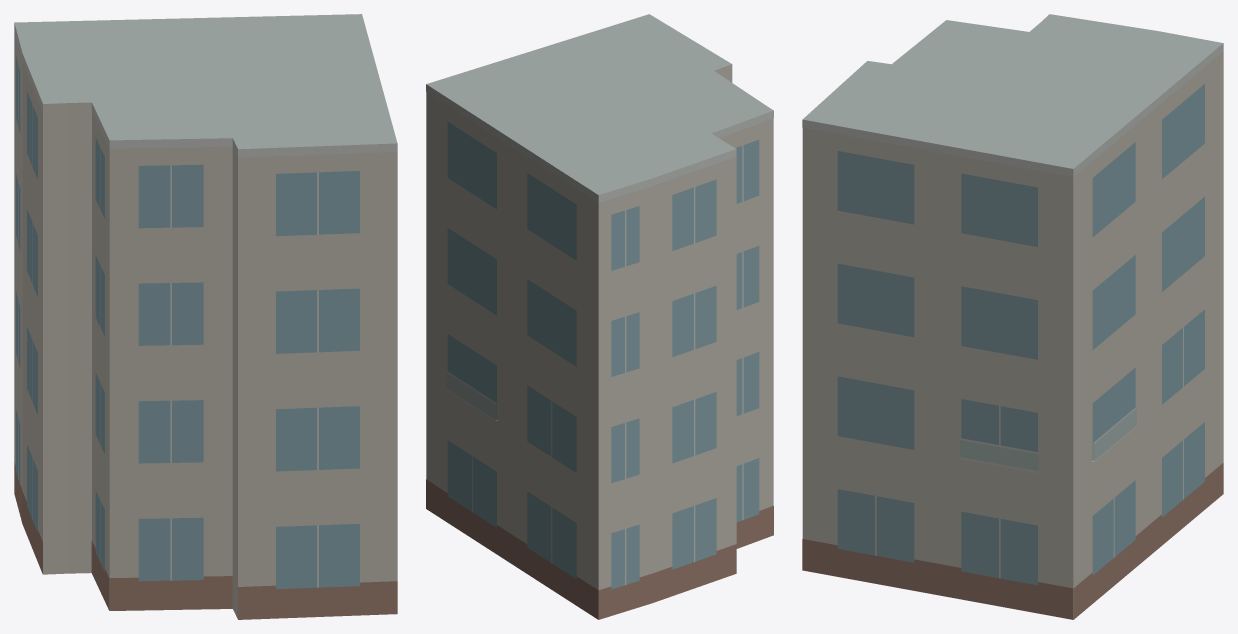
Rendered from survey-upis-32888112.glb.
The picture shows the model from 3 angles, left to right: view 1: azimuth 30°, elevation 25°; view 2: azimuth 150°, elevation 25°; view 3: azimuth 270°, elevation 25°; orthographic projection. The views are drawn at different scales.
Visible parts, largest first — view 1: survey-upis-32888112.tmp; view 2: survey-upis-32888112.tmp; view 3: survey-upis-32888112.tmp.
Part boxes in pixels (x1,y1,x2,y2): survey-upis-32888112.tmp: [14, 14, 397, 619]; survey-upis-32888112.tmp: [426, 14, 773, 619]; survey-upis-32888112.tmp: [802, 14, 1223, 619].
Bounding box in the file's own units: 10.03 × 13.6 × 11.52.
